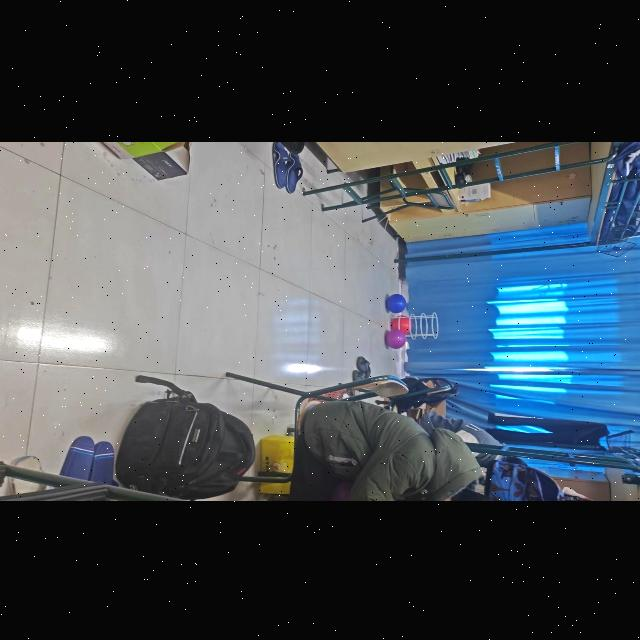B: (385, 288, 409, 314)
P: (384, 332, 404, 348)
R: (392, 315, 413, 335)
S: (390, 314, 442, 336)
